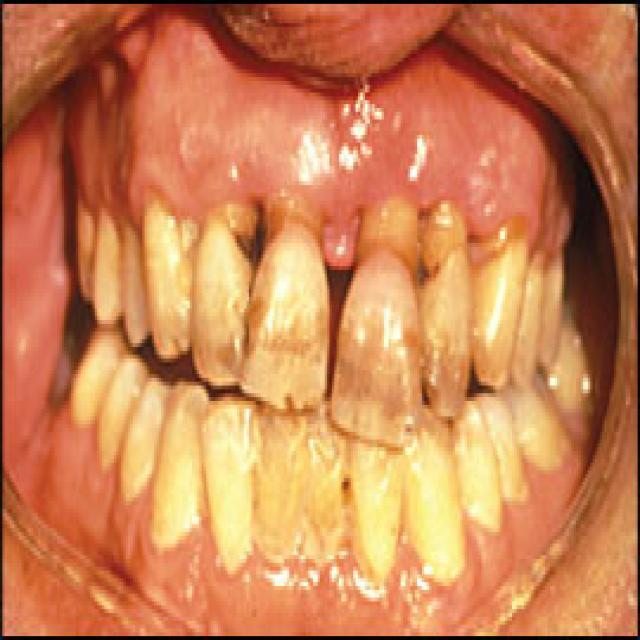LLC_mdecay: (407, 418, 464, 586)
LLLI_mdecay: (344, 432, 403, 588)
LRC_mdecay: (147, 387, 203, 549)
LRLI_mdecay: (203, 409, 255, 571)
ULCI_sdecay: (329, 235, 419, 448)
ULC_sdecay: (471, 212, 514, 391)
ULLI_sdecay: (422, 208, 467, 421)
URCI_sdecay: (242, 212, 325, 410)
URC_sdecay: (143, 209, 190, 360)
URLI_sdecay: (186, 223, 243, 383)
